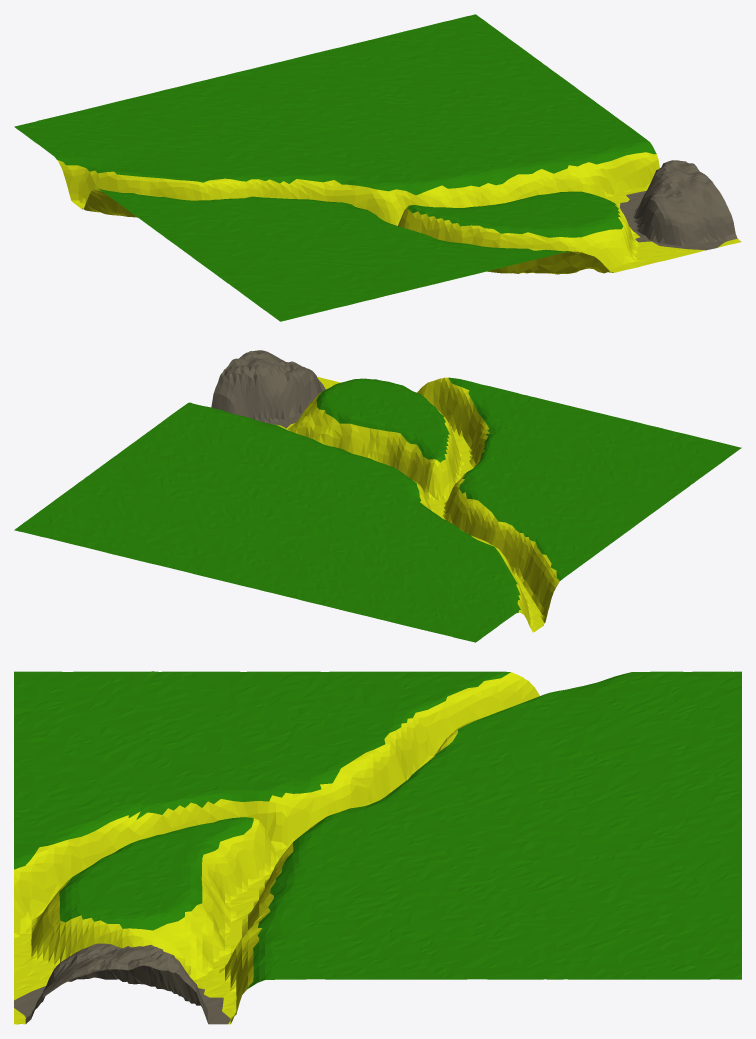
The picture shows the model from 3 angles, top to bottom: view 1: azimuth 30°, elevation 25°; view 2: azimuth 150°, elevation 25°; view 3: azimuth 270°, elevation 25°; orthographic projection. The views are drawn at different scales.
Parts seen in each view (by area): view 1: TerrainVeryHigh; view 2: TerrainVeryHigh; view 3: TerrainVeryHigh.
Boxes of the visible parts, x1,y1,x2,y2 form: TerrainVeryHigh: (14,14,741,321); TerrainVeryHigh: (14,350,741,642); TerrainVeryHigh: (14,671,741,1024).
Bounding box in the file's own units: 1250 × 1249 × 117.
